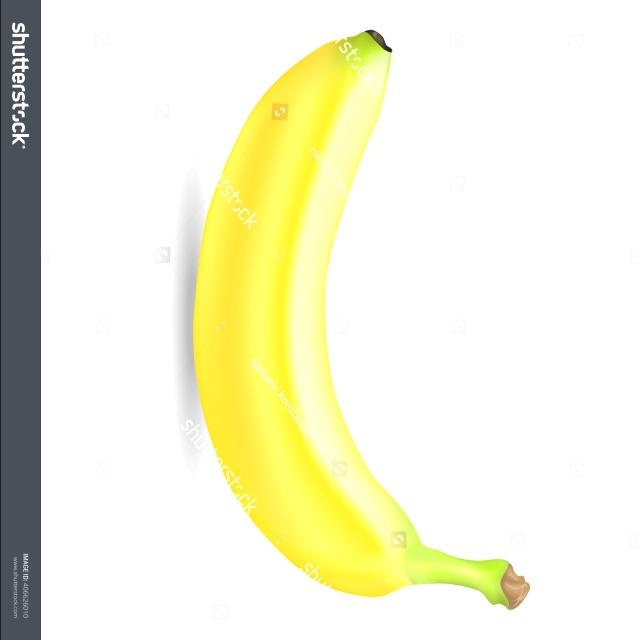agrume: (187, 37, 529, 611)
